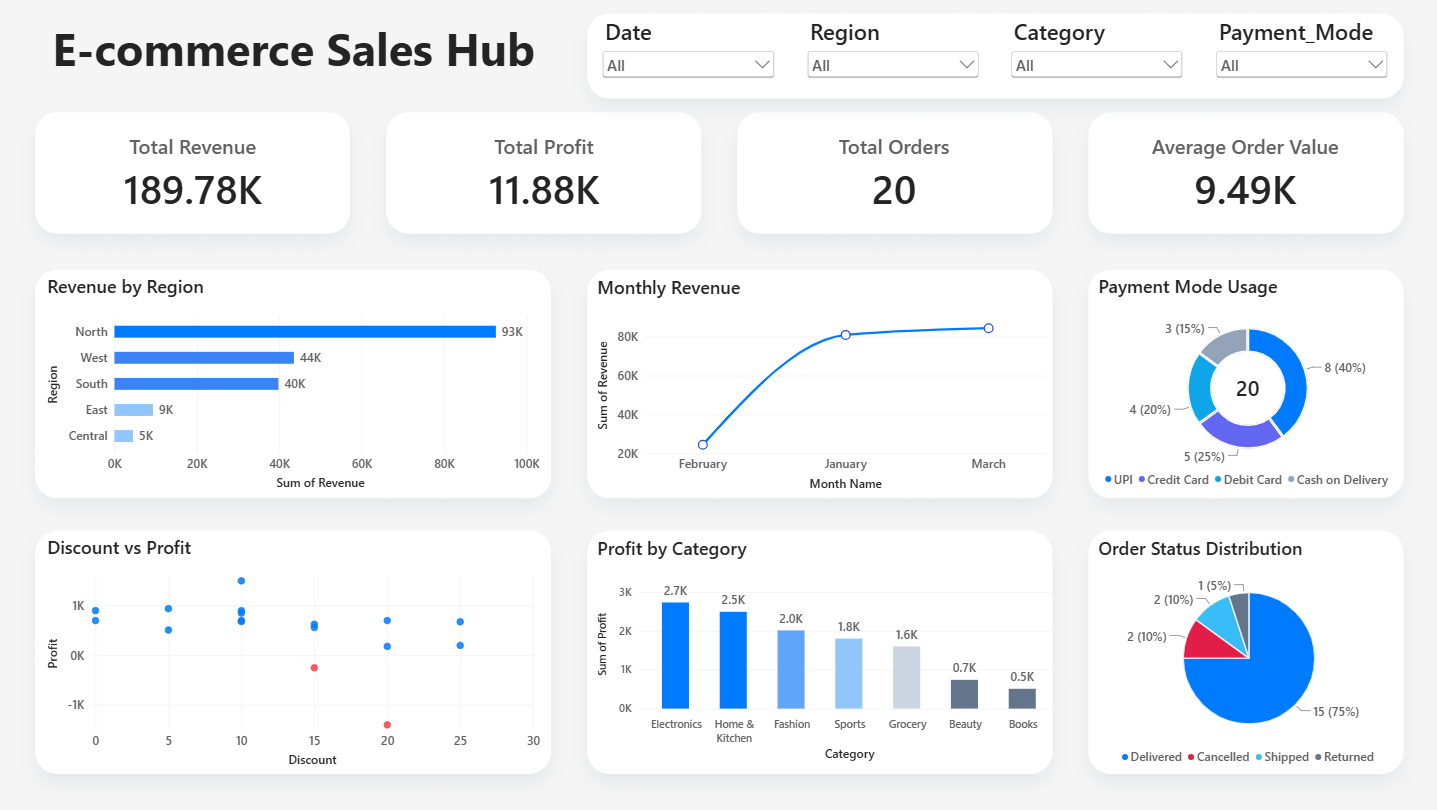

This screenshot's page, from the dashboard's own definition file:
{"tool":"powerbi","page":{"name":"Page 1","canvas":[1920,1080],"ordinal":0},"visuals":[{"type":"image","box":[0,0,1920.6,1080.3],"z":0},{"type":"barChart","title":"Revenue by Region","fields":{"Category":["ecommerce_raw.Region"],"Y":["Sum(ecommerce_raw.Revenue)"]},"box":[48.1,350,688,319],"z":1000},{"type":"lineChart","title":"Monthly Revenue","fields":{"Category":["ecommerce_raw.Month Name"],"Y":["Sum(ecommerce_raw.Revenue)"]},"box":[781.5,352,630,318],"z":2000},{"type":"pieChart","title":"Order Status Distribution","fields":{"Category":["ecommerce_raw.Order_Status"],"Y":["CountNonNull(ecommerce_raw.Customer_ID)"]},"box":[1450,700,433.3,340.7],"z":3000},{"type":"donutChart","title":"Payment Mode Usage","fields":{"Category":["ecommerce_raw.Payment_Mode"],"Y":["ecommerce_raw.Total Orders"]},"box":[1450,350,430,320.4],"z":4000},{"type":"columnChart","title":"Profit by Category","fields":{"Category":["ecommerce_raw.Category"],"Y":["Sum(ecommerce_raw.Profit)"]},"box":[781.5,700,650,330],"z":5000},{"type":"scatterChart","title":"Discount vs Profit","fields":{"X":["ecommerce_raw.Discount"],"Y":["ecommerce_raw.Profit"]},"box":[48.1,698,688.9,340],"z":6000},{"type":"cardVisual","fields":{"Data":["Sum(ecommerce_raw.Revenue)"]},"box":[48,149,420,165],"z":7000},{"type":"cardVisual","fields":{"Data":["Sum(ecommerce_raw.Profit)"]},"box":[516,149,420,165],"z":8000},{"type":"cardVisual","fields":{"Data":["ecommerce_raw.Total Orders"]},"box":[984,149,420,165],"z":9000},{"type":"cardVisual","fields":{"Data":["ecommerce_raw.Average Order Value"]},"box":[1452,149,420,165],"z":10000},{"type":"slicer","fields":{"Values":["ecommerce_raw.Order_Date.Variation.Date Hierarchy.Year","ecommerce_raw.Order_Date.Variation.Date Hierarchy.Quarter","ecommerce_raw.Order_Date.Variation.Date Hierarchy.Month","ecommerce_raw.Order_Date.Variation.Date Hierarchy.Day"]},"box":[800,22.2,238.9,100],"z":11000},{"type":"slicer","fields":{"Values":["ecommerce_raw.Region"]},"box":[1073,22.2,238,100],"z":12000},{"type":"slicer","fields":{"Values":["ecommerce_raw.Category"]},"box":[1345,22.2,238,100],"z":13000},{"type":"slicer","fields":{"Values":["ecommerce_raw.Payment_Mode"]},"box":[1618.5,22.2,238,100],"z":14000},{"type":"textbox","title":"E-commerce Sales Hub","box":[48.8,22.7,689,100],"z":15000}]}

Visuals, with their boxes in screenshot pixels (x1, y1, x2, y2), scaled from the page's 1920x1080 canvas onto the 1437x810 screenshot:
image: [left=0, top=0, right=1436, bottom=809]
"Revenue by Region" barChart: [left=36, top=262, right=551, bottom=502]
"Monthly Revenue" lineChart: [left=585, top=264, right=1056, bottom=502]
"Order Status Distribution" pieChart: [left=1085, top=525, right=1410, bottom=781]
"Payment Mode Usage" donutChart: [left=1085, top=262, right=1407, bottom=503]
"Profit by Category" columnChart: [left=585, top=525, right=1071, bottom=772]
"Discount vs Profit" scatterChart: [left=36, top=524, right=552, bottom=778]
cardVisual - Sum(ecommerce_raw.Revenue): [left=36, top=112, right=350, bottom=236]
cardVisual - Sum(ecommerce_raw.Profit): [left=386, top=112, right=701, bottom=236]
cardVisual - ecommerce_raw.Total Orders: [left=736, top=112, right=1051, bottom=236]
cardVisual - ecommerce_raw.Average Order Value: [left=1087, top=112, right=1401, bottom=236]
slicer - ecommerce_raw.Order_Date.Variation.Date Hierarchy.Year x ecommerce_raw.Order_Date.Variation.Date Hierarchy.Quarter: [left=599, top=17, right=778, bottom=92]
slicer - ecommerce_raw.Region: [left=803, top=17, right=981, bottom=92]
slicer - ecommerce_raw.Category: [left=1007, top=17, right=1185, bottom=92]
slicer - ecommerce_raw.Payment_Mode: [left=1211, top=17, right=1389, bottom=92]
"E-commerce Sales Hub" textbox: [left=37, top=17, right=552, bottom=92]
